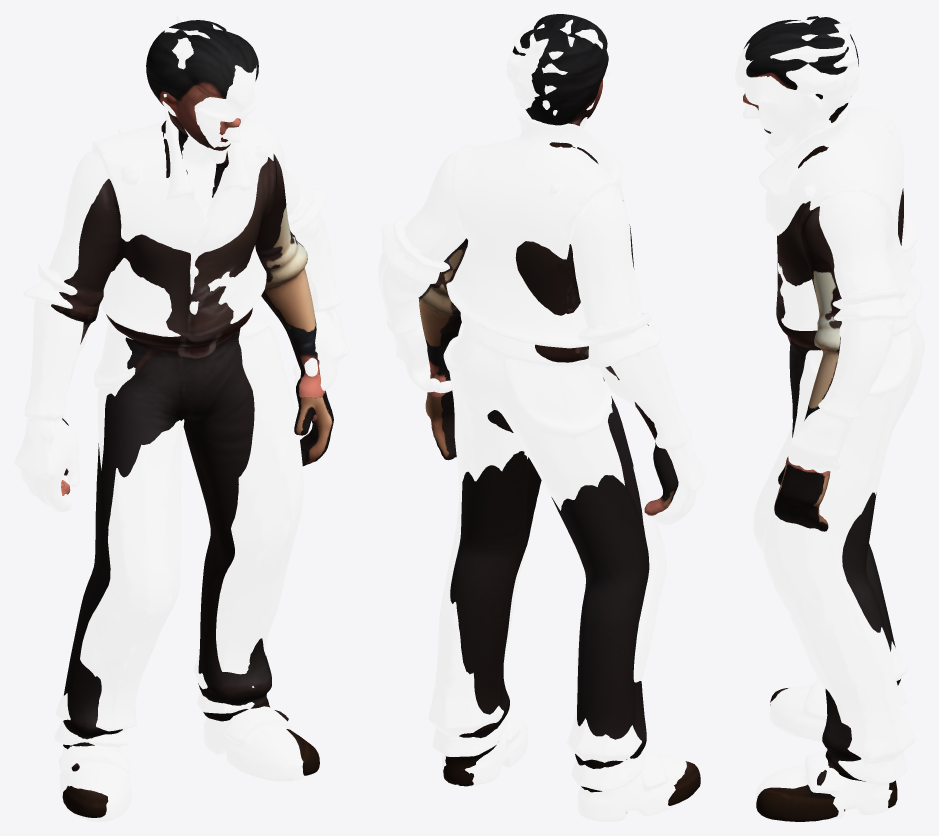
File: bandit_wrapped.glb
The picture shows the model from 3 angles, left to right: view 1: azimuth 30°, elevation 25°; view 2: azimuth 150°, elevation 25°; view 3: azimuth 270°, elevation 25°; orthographic projection.
Parts seen in each view (by area): view 1: Outfit, Body; view 2: Outfit, Body; view 3: Outfit, Body.
Part boxes in pixels (x1=…): Outfit: x1=14, y1=14, x2=349, y2=821; Body: x1=51, y1=20, x2=333, y2=817; Outfit: x1=378, y1=19, x2=706, y2=821; Body: x1=418, y1=14, x2=700, y2=805; Outfit: x1=735, y1=14, x2=924, y2=819; Body: x1=743, y1=16, x2=903, y2=821.
Bounding box in the file's own units: 0.8157 × 1.85 × 0.4242.
Materials: 2 (1 with a texture image).
